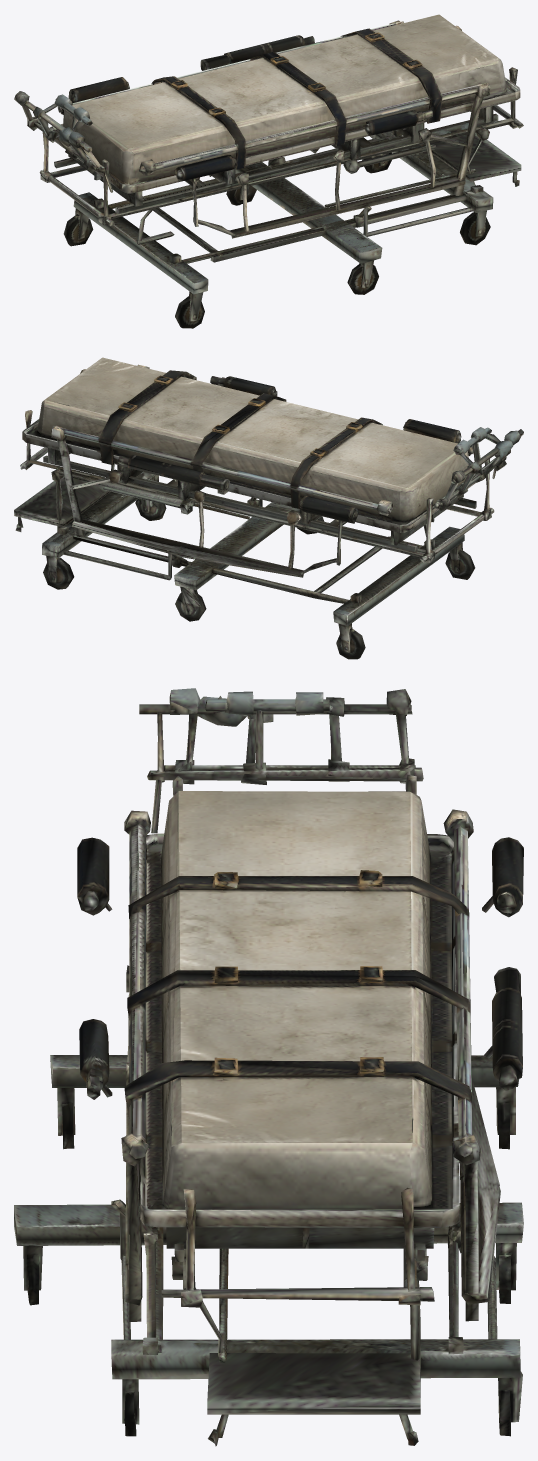
File: StretcherTrolley.fbx
3 renders of one model, top to bottom at view 1: azimuth 30°, elevation 25°; view 2: azimuth 150°, elevation 25°; view 3: azimuth 270°, elevation 25°, orthographic. The views are drawn at different scales.
Visible parts, largest first — view 1: mesh_node; view 2: mesh_node; view 3: mesh_node.
Part boxes in pixels (x1=…): mesh_node: x1=14, y1=14, x2=523, y2=328; mesh_node: x1=14, y1=357, x2=523, y2=659; mesh_node: x1=14, y1=688, x2=523, y2=1446.
Bounding box in the file's own units: 165 × 70 × 81.75.
1 material, 1 textured.
